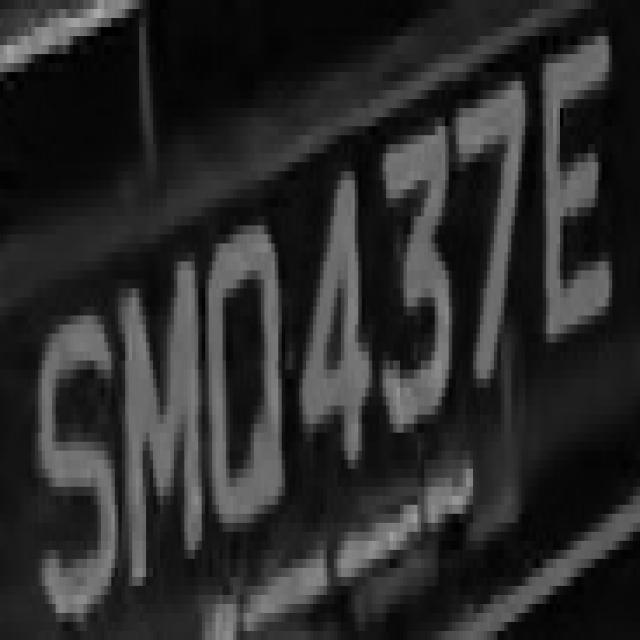3: (372, 108, 459, 460)
4: (285, 153, 379, 514)
7: (452, 63, 536, 415)
E: (536, 18, 622, 361)
M: (108, 243, 209, 586)
Q: (198, 225, 292, 550)
S: (35, 279, 118, 622)
